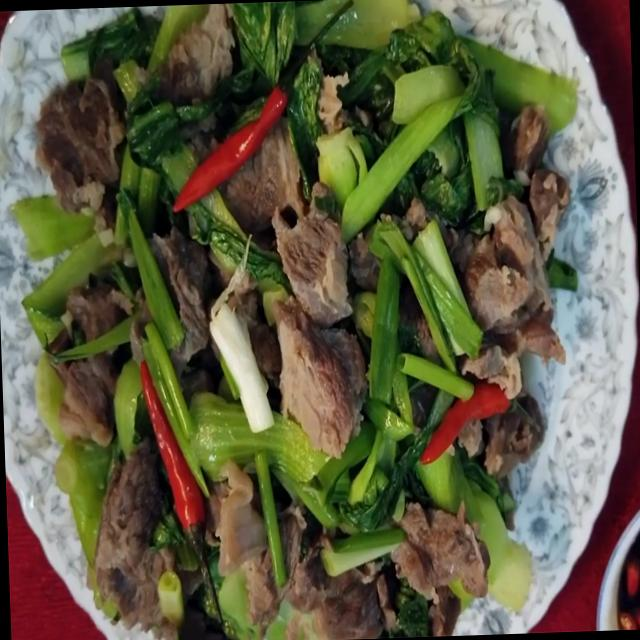bo xao: (9, 0, 576, 640)
